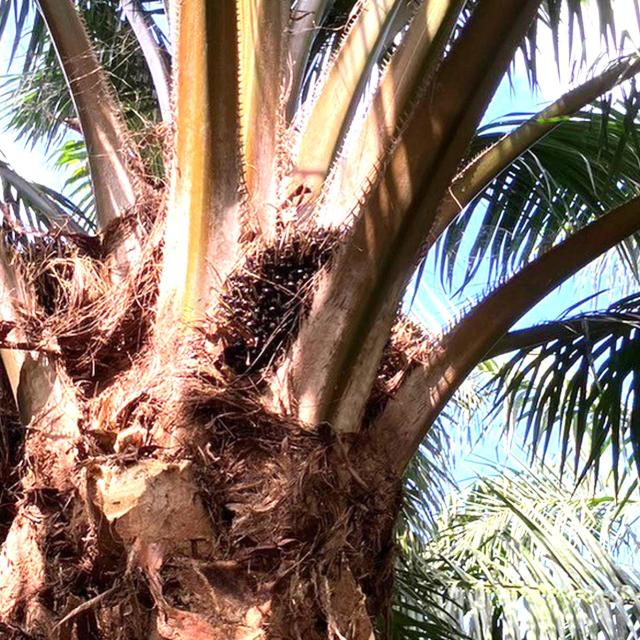unripe: (184, 207, 362, 422)
